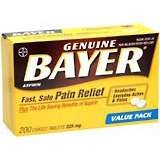grozi_24: (0, 22, 160, 136)
